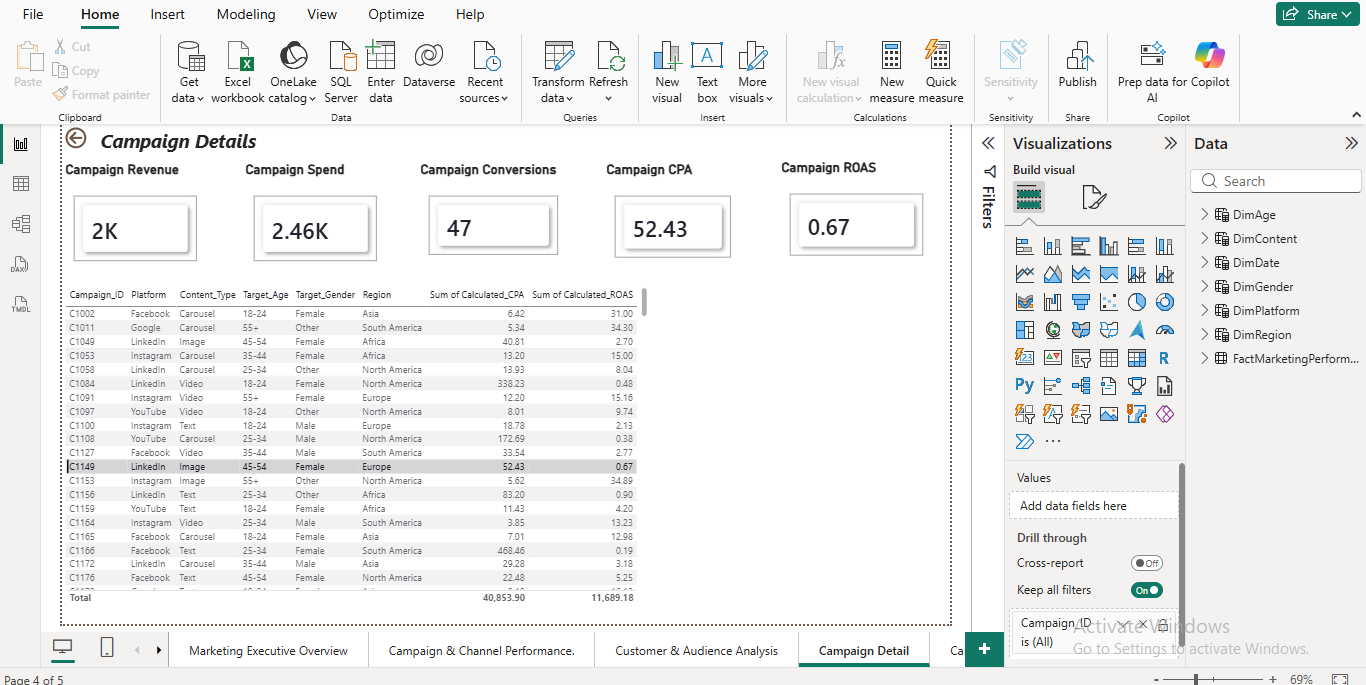

This screenshot's page, from the dashboard's own definition file:
{"tool":"powerbi","page":{"name":"Campaign Detail","canvas":[1280,720],"ordinal":3},"visuals":[{"type":"tableEx","fields":{"Values":["FactMarketingPerformance.Campaign_ID","FactMarketingPerformance.Platform","FactMarketingPerformance.Content_Type","FactMarketingPerformance.Target_Age","FactMarketingPerformance.Target_Gender","FactMarketingPerformance.Region","Sum(FactMarketingPerformance.Calculated_CPA)","Sum(FactMarketingPerformance.Calculated_ROAS)"]},"box":[0,230.1,848.3,386.4],"z":0},{"type":"actionButton","box":[0,0,100,40],"z":1000},{"type":"cardVisual","title":"Campaign Revenue","fields":{"Data":["FactMarketingPerformance.Total Revenue"]},"box":[0,53.8,211.7,161.3],"z":2000},{"type":"cardVisual","title":"Campaign Spend","fields":{"Data":["FactMarketingPerformance.Total Spend"]},"box":[258.7,53.8,211.7,161.3],"z":3000},{"type":"cardVisual","title":"Campaign Conversions","fields":{"Data":["FactMarketingPerformance.Total Conversions"]},"box":[510.7,53.8,220.1,152.9],"z":4000},{"type":"cardVisual","title":"Campaign CPA","fields":{"Data":["FactMarketingPerformance.CPA"]},"box":[779.4,53.8,201.6,156.2],"z":5000},{"type":"cardVisual","title":"Campaign ROAS","fields":{"Data":["FactMarketingPerformance.ROAS"]},"box":[1031.4,50.4,226.8,156.2],"z":6000},{"type":"textbox","box":[50.4,0,346,53.8],"z":7000}]}

Visuals, with their boxes on the page's 1280x720 design canvas (x1, y1, x2, y2). These are canvas units, not pixel positions in the 1366x685 screenshot, which may show the page scaled, cropped or inside an application window:
tableEx - FactMarketingPerformance.Campaign_ID x FactMarketingPerformance.Platform: <region>0, 230, 848, 616</region>
actionButton: <region>0, 0, 100, 40</region>
"Campaign Revenue" cardVisual: <region>0, 54, 212, 215</region>
"Campaign Spend" cardVisual: <region>259, 54, 470, 215</region>
"Campaign Conversions" cardVisual: <region>511, 54, 731, 207</region>
"Campaign CPA" cardVisual: <region>779, 54, 981, 210</region>
"Campaign ROAS" cardVisual: <region>1031, 50, 1258, 207</region>
textbox: <region>50, 0, 396, 54</region>
